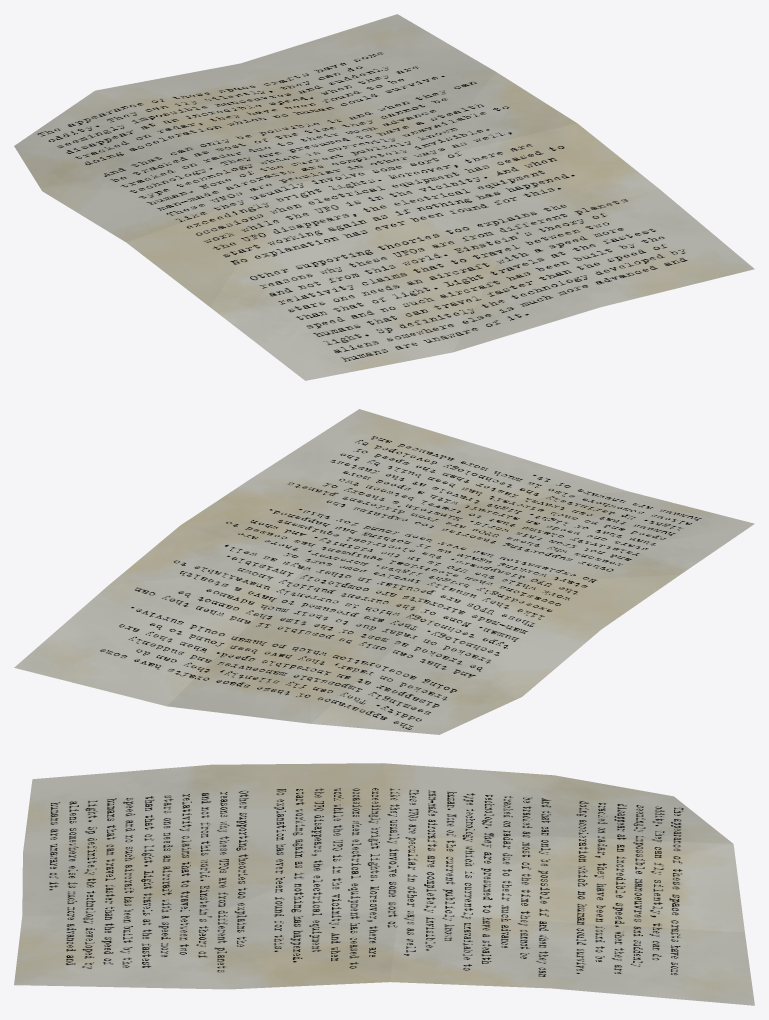
Rendered from SM_Newspaper_01.fbx.
3 renders of one model, top to bottom at view 1: azimuth 30°, elevation 25°; view 2: azimuth 150°, elevation 25°; view 3: azimuth 270°, elevation 25°, orthographic. The views are drawn at different scales.
Visible parts, largest first — view 1: SM_Newspaper_01; view 2: SM_Newspaper_01; view 3: SM_Newspaper_01.
Part boxes in pixels (x1,y1,x2,y2): SM_Newspaper_01: (14, 14, 754, 380); SM_Newspaper_01: (14, 409, 754, 734); SM_Newspaper_01: (14, 763, 754, 1005).
Bounding box in the file's own units: 43.37 × 3.1 × 60.25.
